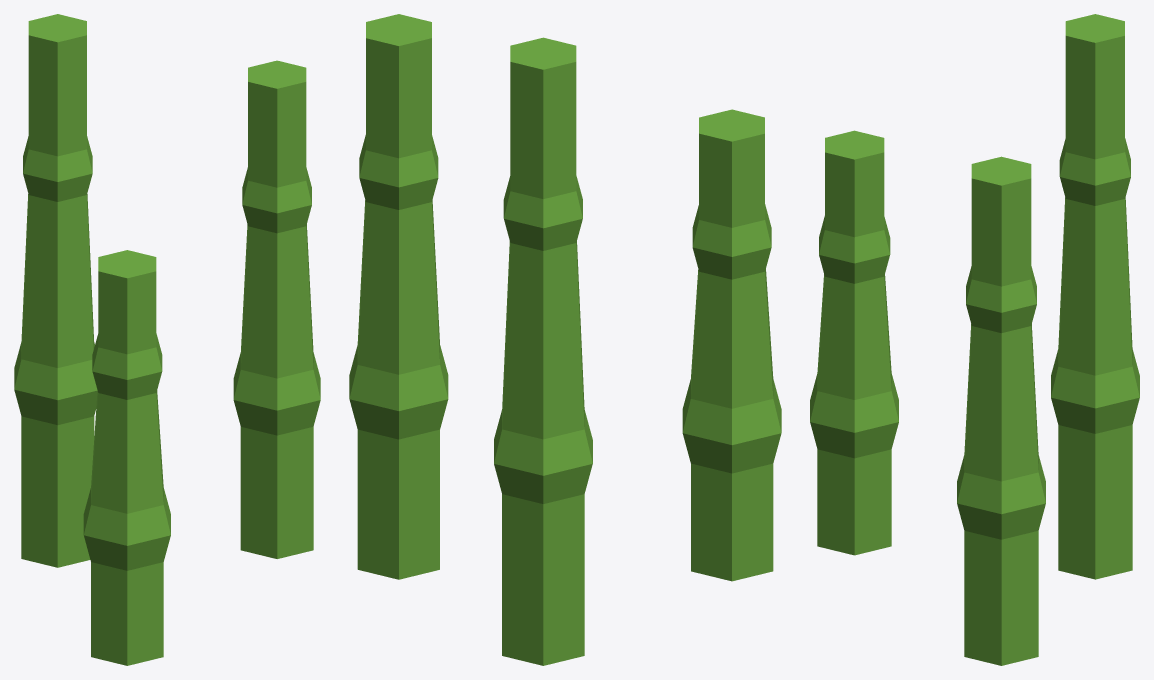
File: crops_bambooStageA.glb
3 views of the same model, side by side, from view 1: azimuth 30°, elevation 25°; view 2: azimuth 150°, elevation 25°; view 3: azimuth 270°, elevation 25° (orthographic). The views are drawn at different scales.
Visible parts, largest first — view 1: crops_bambooStageA; view 2: crops_bambooStageA; view 3: crops_bambooStageA.
Boxes of the visible parts, x1,y1,x2,y2 form: crops_bambooStageA: [14, 14, 320, 665]; crops_bambooStageA: [349, 14, 781, 665]; crops_bambooStageA: [810, 14, 1139, 665].
Size of the model in its own units: 0.3401 by 0.549 by 0.308.
